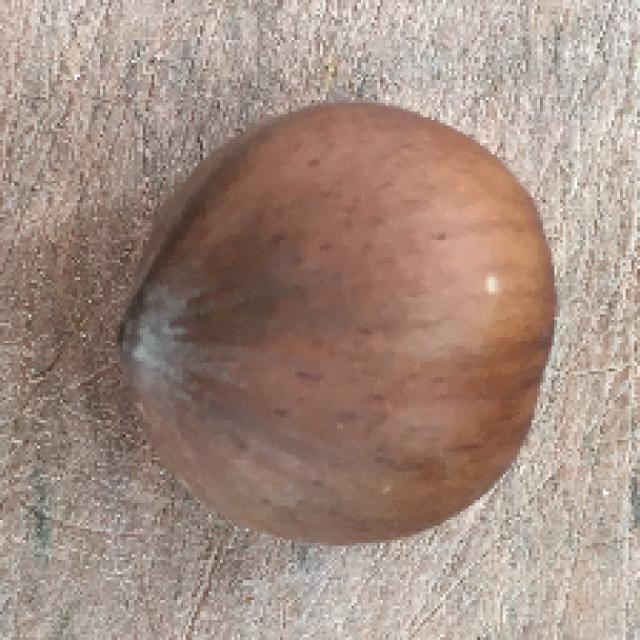damagedHazelnut: (94, 83, 570, 551)
